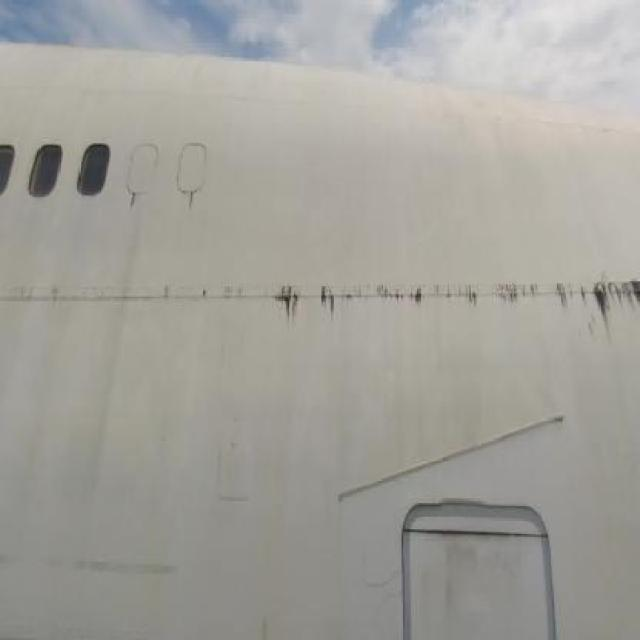Rust: (255, 262, 640, 353), (184, 188, 196, 217), (128, 189, 140, 217)
Scartch: (2, 533, 184, 590), (436, 539, 546, 626), (360, 550, 402, 636)
